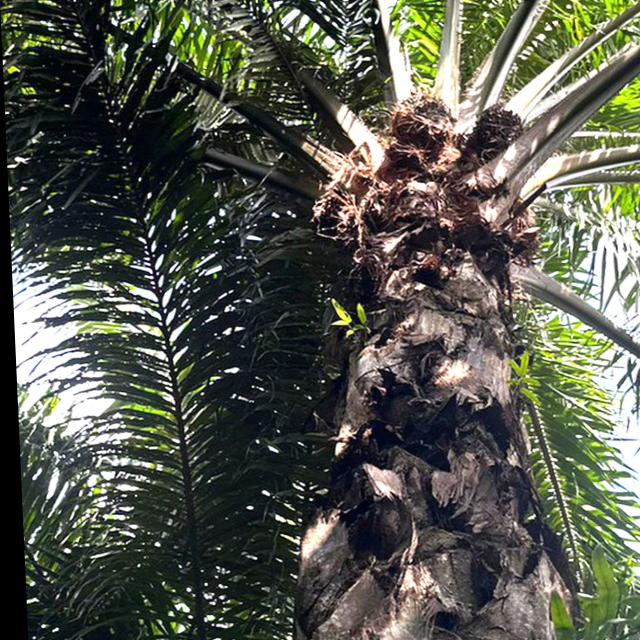unripe: (464, 98, 528, 156)
